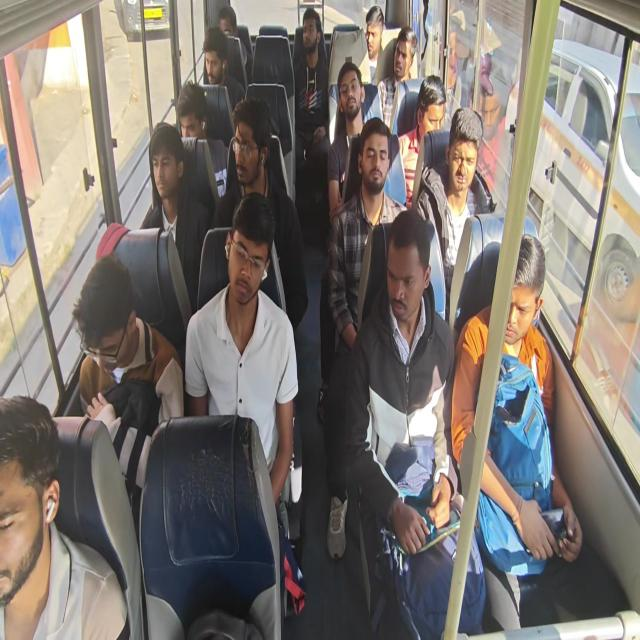person: (0, 415, 55, 598), (74, 253, 138, 388), (217, 198, 266, 302), (498, 243, 544, 349), (387, 222, 430, 323), (226, 106, 264, 184), (449, 115, 483, 190), (363, 118, 393, 202), (144, 131, 179, 198), (172, 84, 206, 146), (418, 71, 442, 141), (336, 62, 360, 117), (393, 31, 419, 79), (203, 34, 227, 85), (359, 4, 383, 54), (296, 12, 320, 55), (213, 6, 241, 42)
